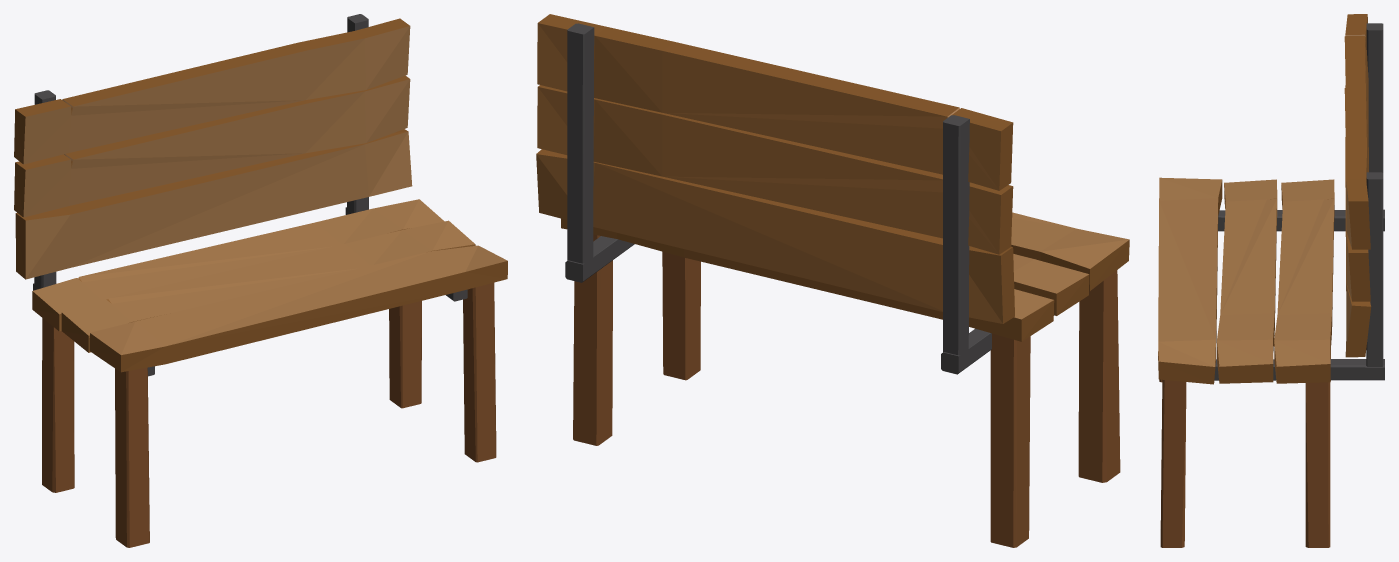
File: BG_Chair02.fbx
The picture shows the model from 3 angles, left to right: view 1: azimuth 30°, elevation 25°; view 2: azimuth 150°, elevation 25°; view 3: azimuth 270°, elevation 25°; orthographic projection. The views are drawn at different scales.
Visible parts, largest first — view 1: BG_Chair02; view 2: BG_Chair02; view 3: BG_Chair02.
Boxes of the visible parts, x1,y1,x2,y2 form: BG_Chair02: (14,14,507,547); BG_Chair02: (536,14,1129,547); BG_Chair02: (1158,14,1384,547).
Bounding box in the file's own units: 58.7 × 53.14 × 30.52.
Materials: 1 (1 with a texture image).
